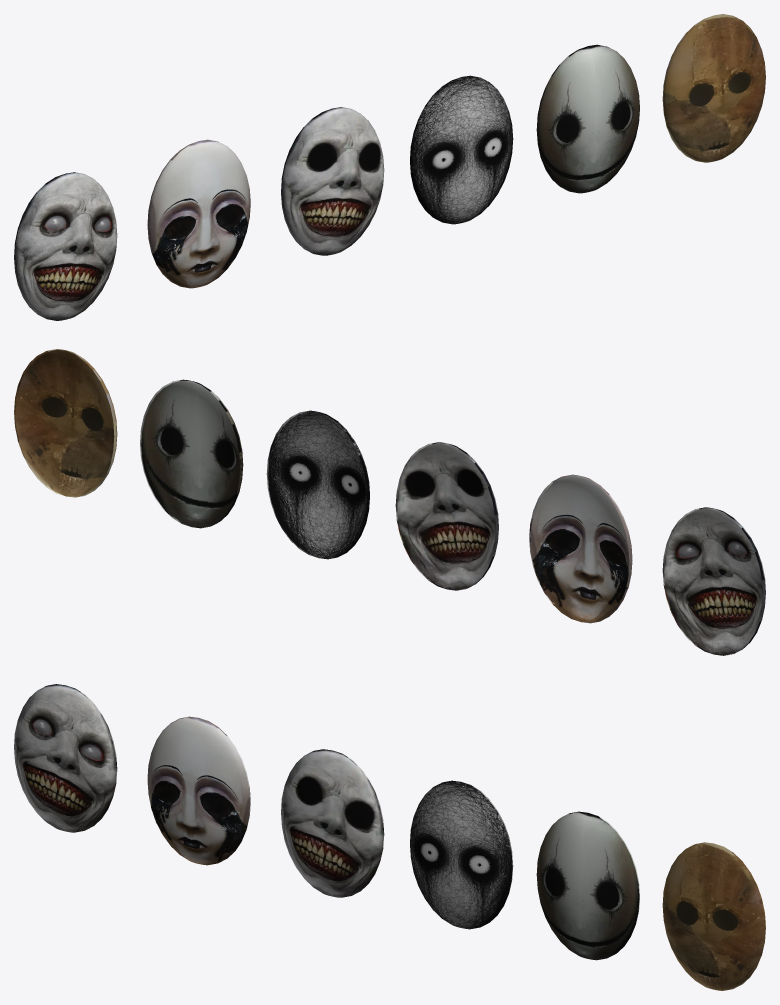
Rendered from Mascarass.glb.
3 views of the same model, one above another, from view 1: azimuth 30°, elevation 25°; view 2: azimuth 150°, elevation 25°; view 3: azimuth 330°, elevation 25° (orthographic).
Parts seen in each view (by area): view 1: mascara3, mascara4, mascara1, mascara5, mascara2.001, mascara2; view 2: mascara3, mascara5, mascara1, mascara4, mascara2.001, mascara2; view 3: mascara3, mascara1, mascara5, mascara4, mascara2.001, mascara2.
Part boxes in pixels (x1,y1,x2,y2): mascara3: (410, 75, 513, 224); mascara4: (536, 44, 639, 193); mascara1: (147, 139, 250, 288); mascara5: (662, 14, 765, 162); mascara2.001: (14, 172, 117, 320); mascara2: (281, 107, 384, 255); mascara3: (266, 410, 369, 559); mascara5: (14, 349, 117, 497); mascara1: (529, 474, 632, 623); mascara4: (140, 379, 243, 528); mascara2.001: (662, 507, 765, 655); mascara2: (395, 442, 498, 590); mascara3: (410, 780, 513, 929); mascara1: (147, 716, 250, 865); mascara5: (662, 842, 765, 990); mascara4: (536, 811, 639, 960); mascara2.001: (14, 684, 117, 832); mascara2: (281, 749, 384, 897).
Bounding box in the file's own units: 36.75 × 6.83 × 0.9402.
6 materials, 6 textured.
